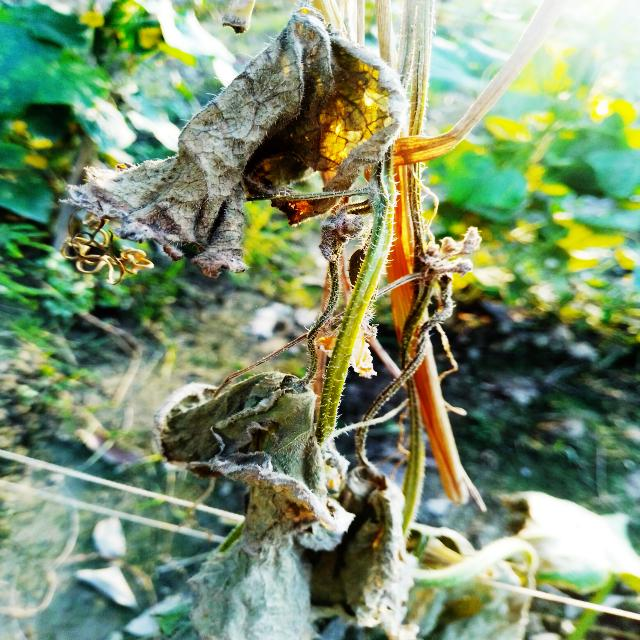Bacterial-Wilt: (57, 1, 411, 276), (155, 369, 357, 640), (309, 452, 426, 639)
